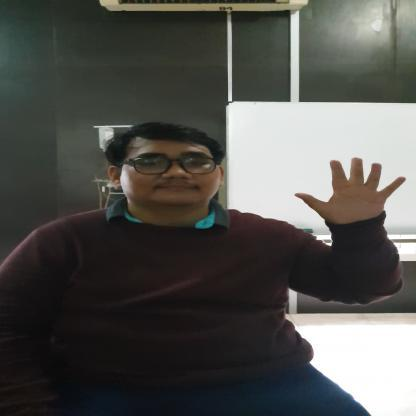Halo: (290, 156, 412, 230)
